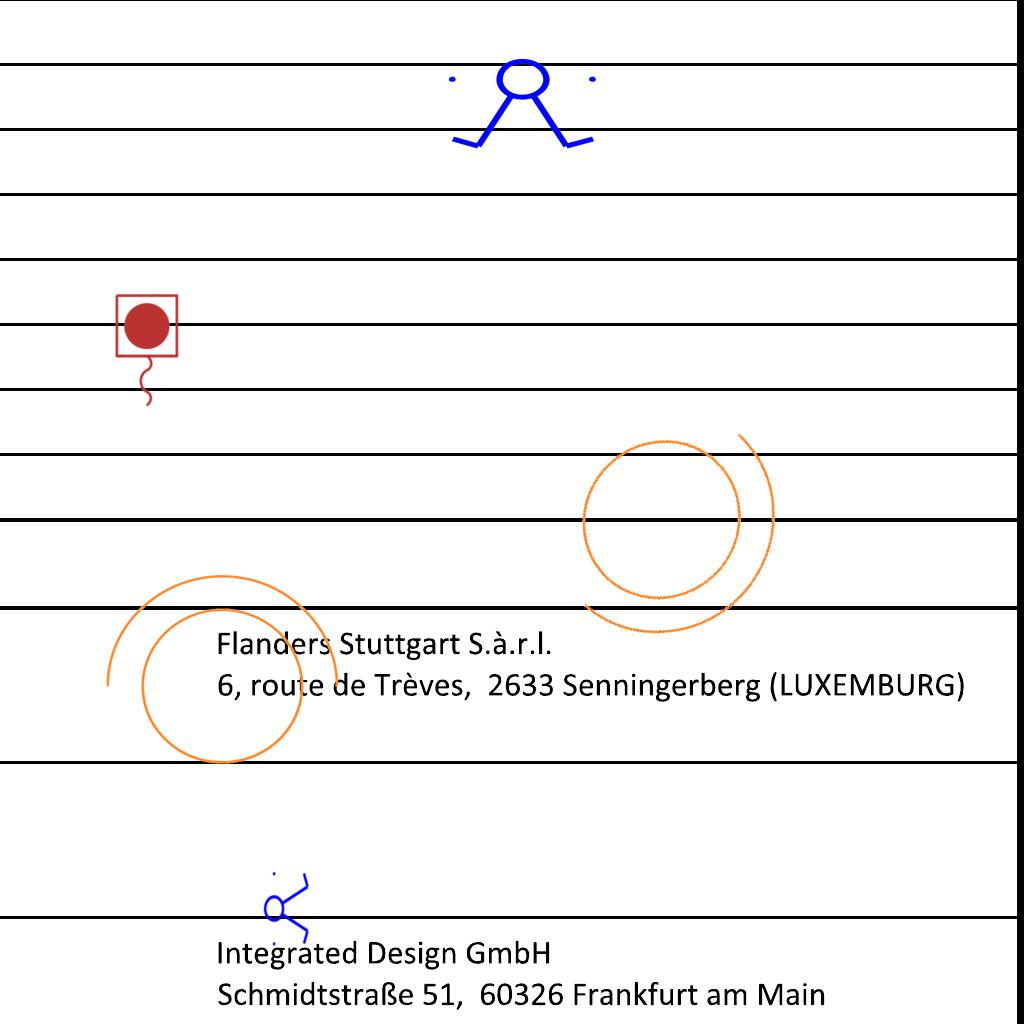Scheinwerfer_fuer_Alarmbeleuchtung: (501, 348, 845, 695), (84, 564, 348, 789)
Serienschalter: (440, 57, 608, 153), (263, 866, 311, 950)
Zugtaster: (110, 290, 182, 412)
